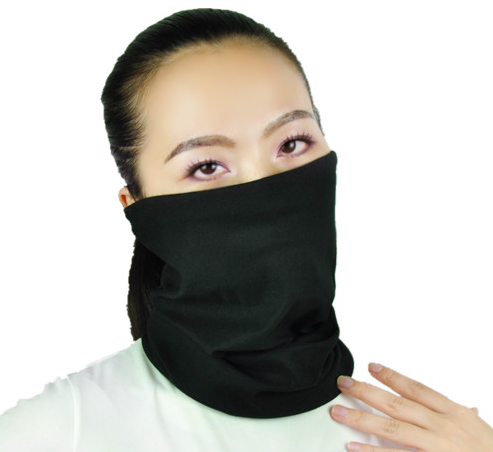face_mask: (141, 55, 333, 296)
